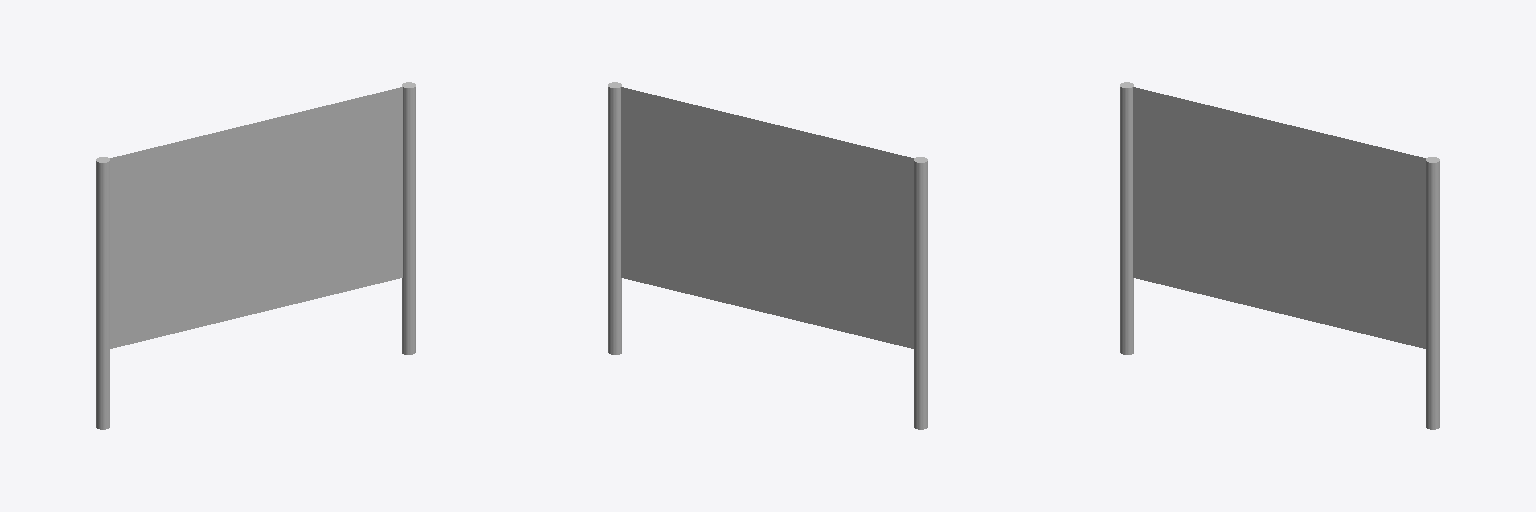
The model's file is outdoor.obj.
3 views of the same model, side by side, from view 1: azimuth 30°, elevation 25°; view 2: azimuth 150°, elevation 25°; view 3: azimuth 330°, elevation 25° (orthographic).
Parts seen in each view (by area): view 1: outdoor_face, outdoor_post1, outdoor_post2; view 2: outdoor_face, outdoor_post1, outdoor_post2; view 3: outdoor_face, outdoor_post2, outdoor_post1.
Boxes of the visible parts, x1,y1,x2,y2 form: outdoor_face: [110, 87, 402, 348]; outdoor_post1: [96, 157, 109, 429]; outdoor_post2: [402, 82, 415, 354]; outdoor_face: [621, 87, 913, 348]; outdoor_post1: [914, 157, 927, 429]; outdoor_post2: [608, 82, 621, 354]; outdoor_face: [1133, 87, 1425, 348]; outdoor_post2: [1426, 157, 1439, 429]; outdoor_post1: [1120, 82, 1133, 354].
Bounding box in the file's own units: 5 × 4 × 0.2.